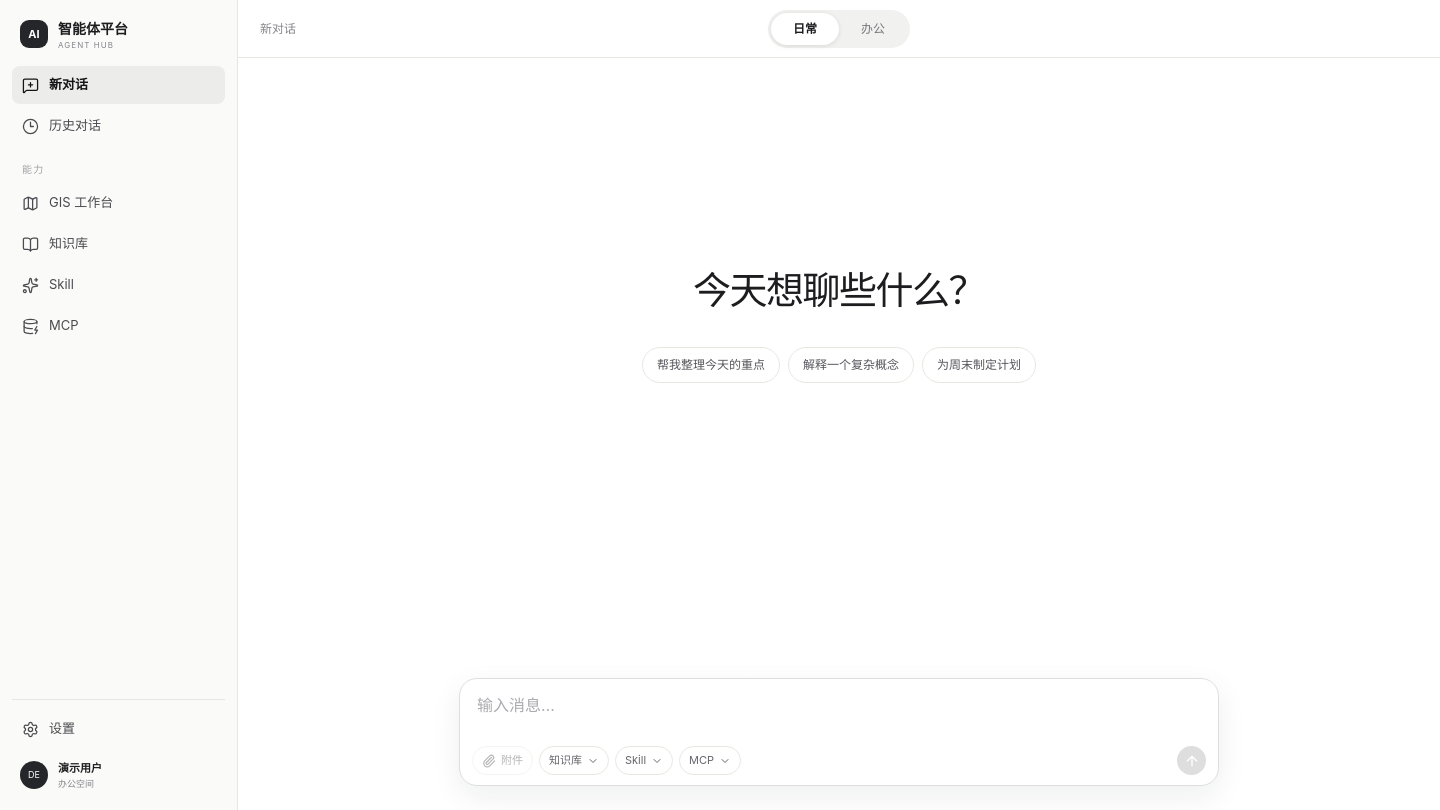
Test: ChatPage › blocks real submission when a capability is selected
Click the button "知识库" at (574, 760), box [539, 746, 609, 775]
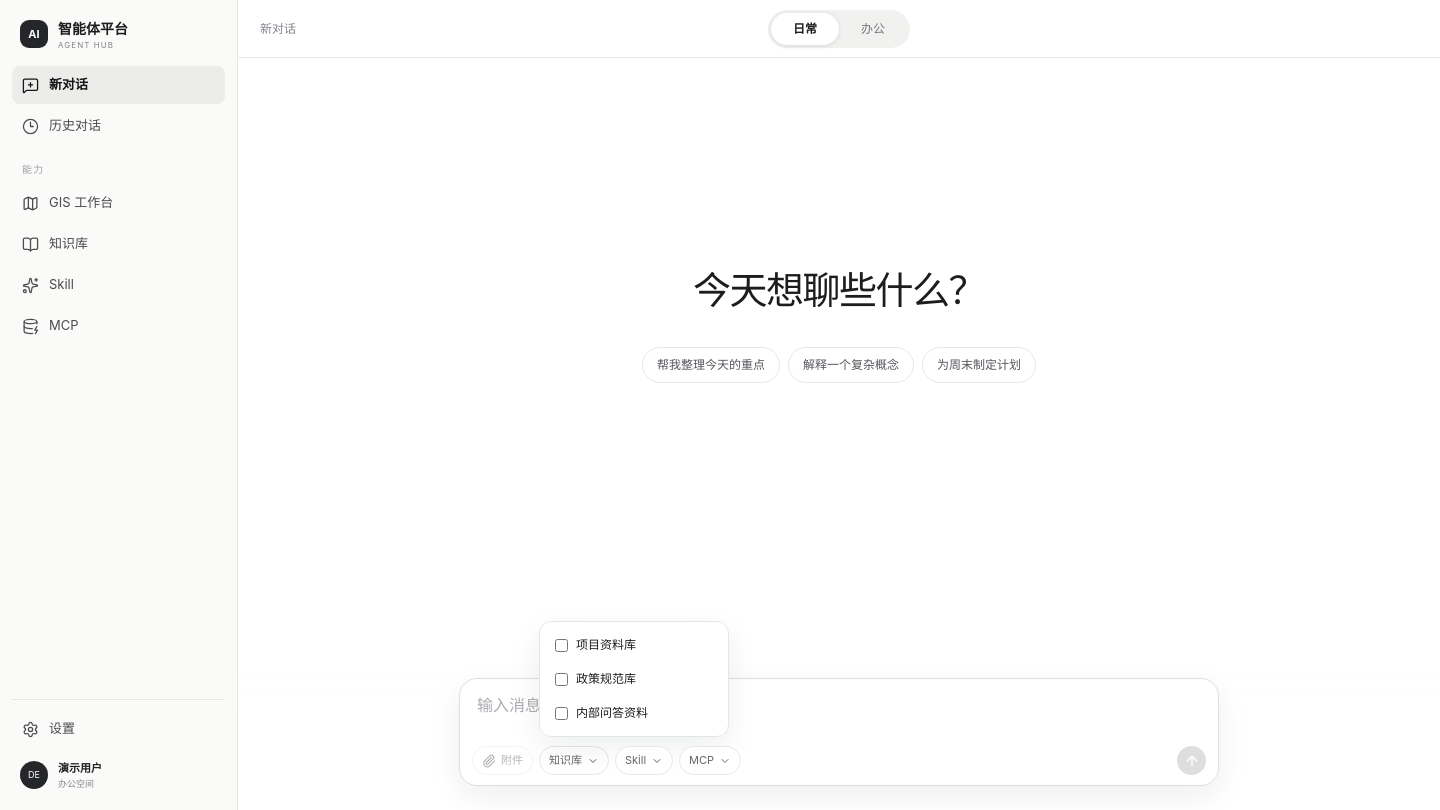
Click the checkbox labelled "项目资料库" at (562, 645), box [555, 638, 568, 652]
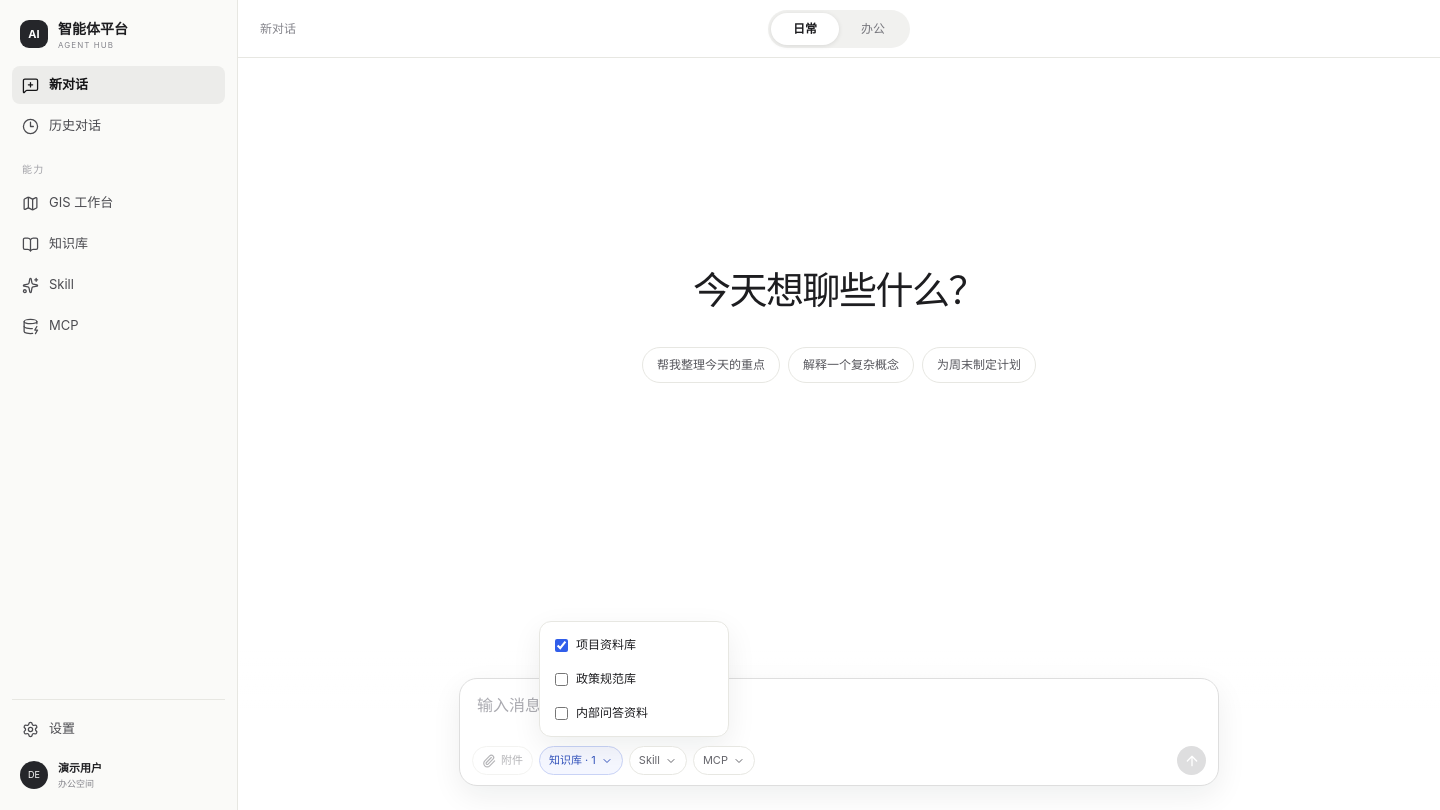
Type "分析本周风险" into the text box labelled "消息" at (839, 718), box [472, 690, 1206, 746]
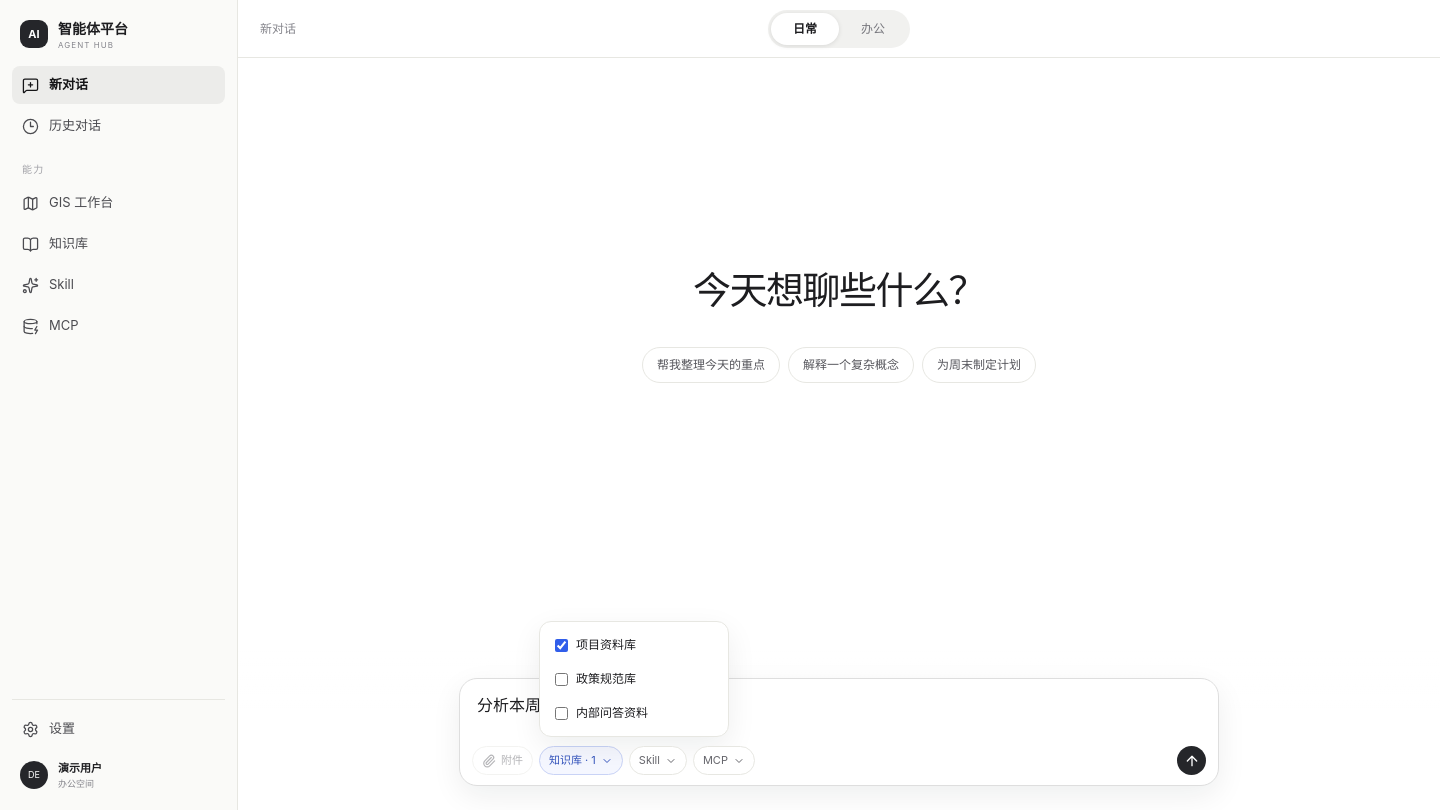
Click the button named "发送" at (1192, 760), box [1177, 746, 1206, 775]
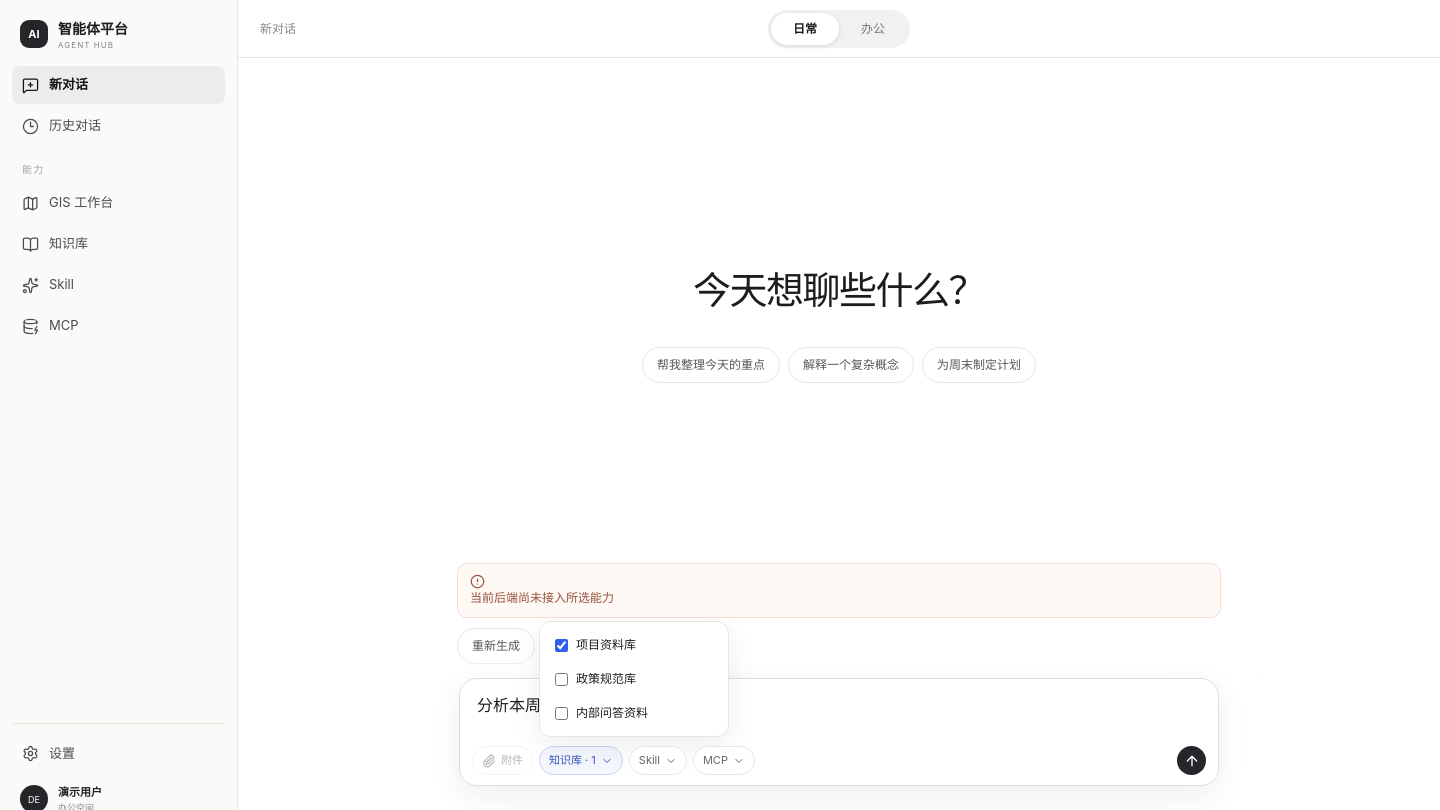
Expected: the text "当前后端尚未接入所选能力" is shown, [470, 590, 614, 605]
